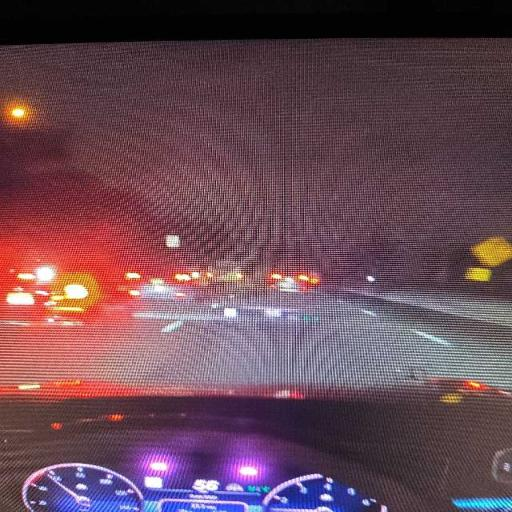lane: (0, 294, 511, 388)
